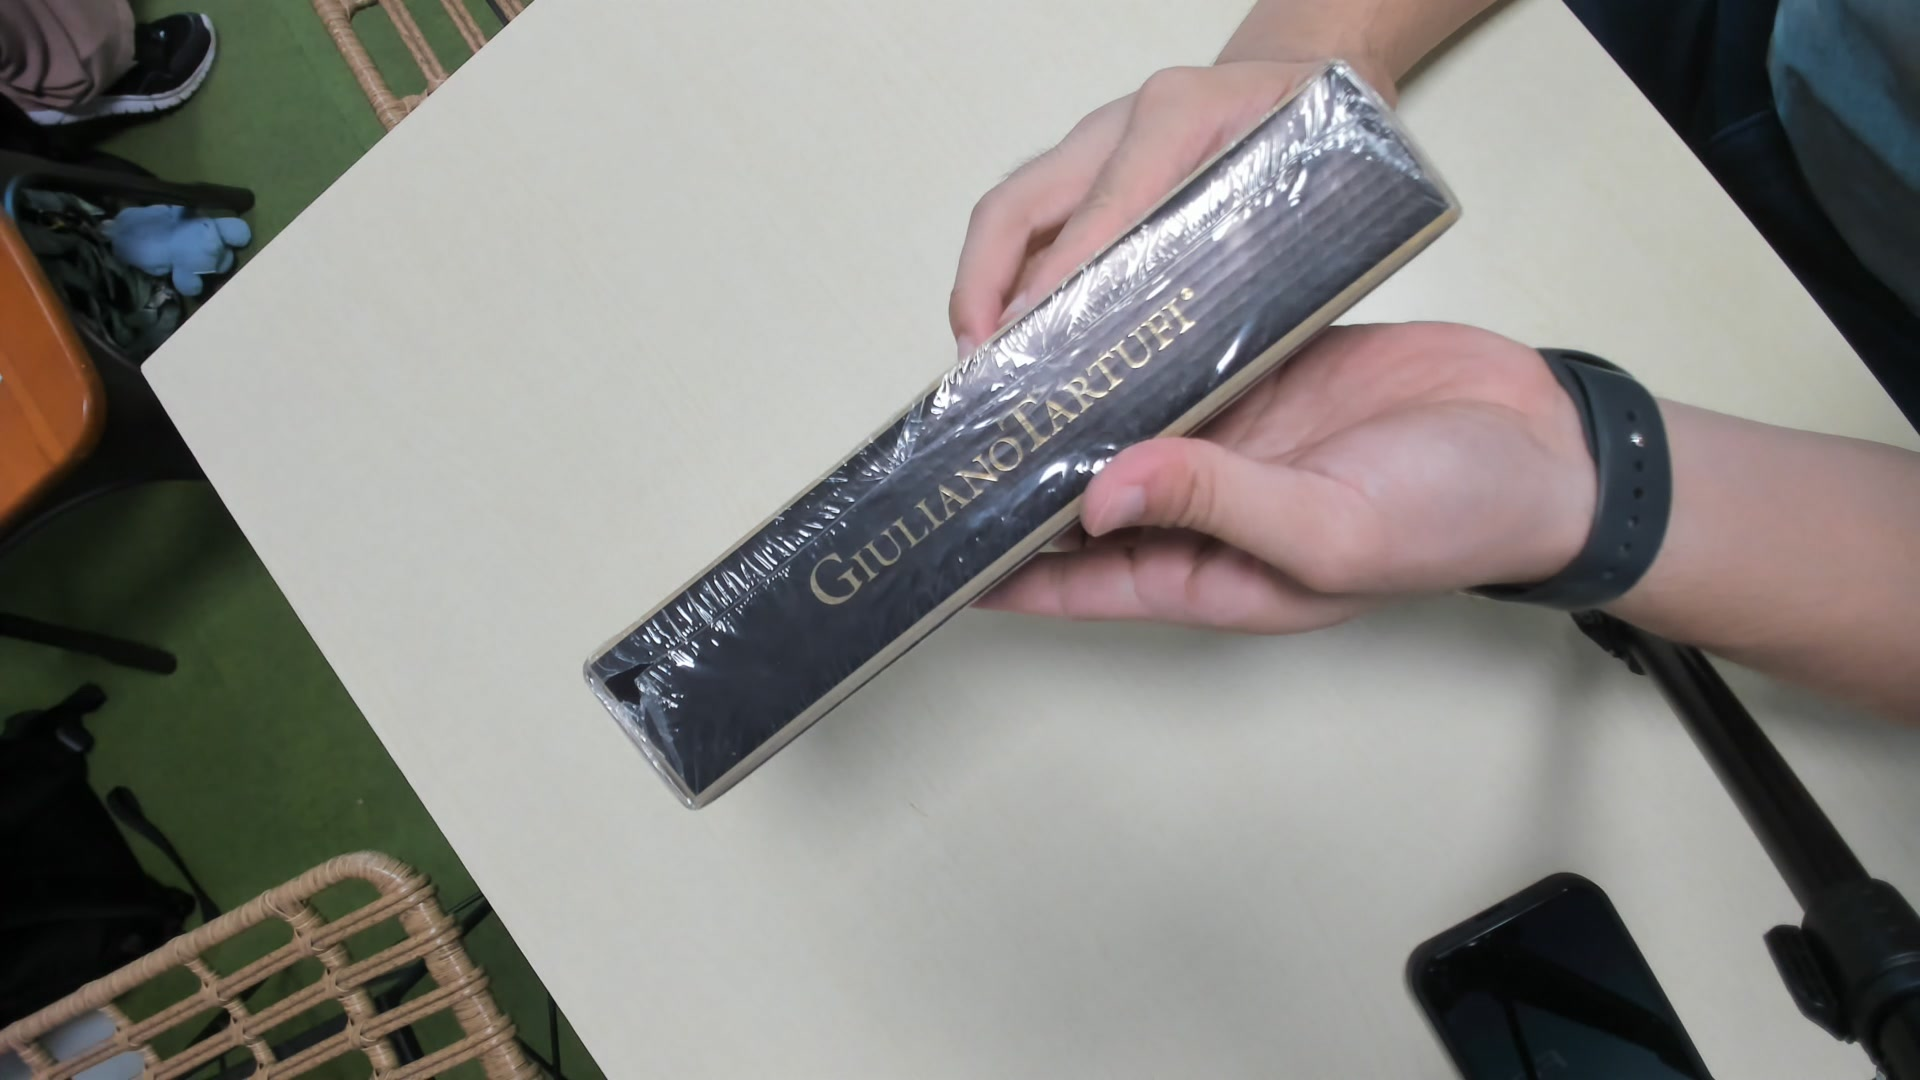OtherSauceDressing_500-599g_NonHalal_NonHealthy: (591, 69, 1458, 820)
